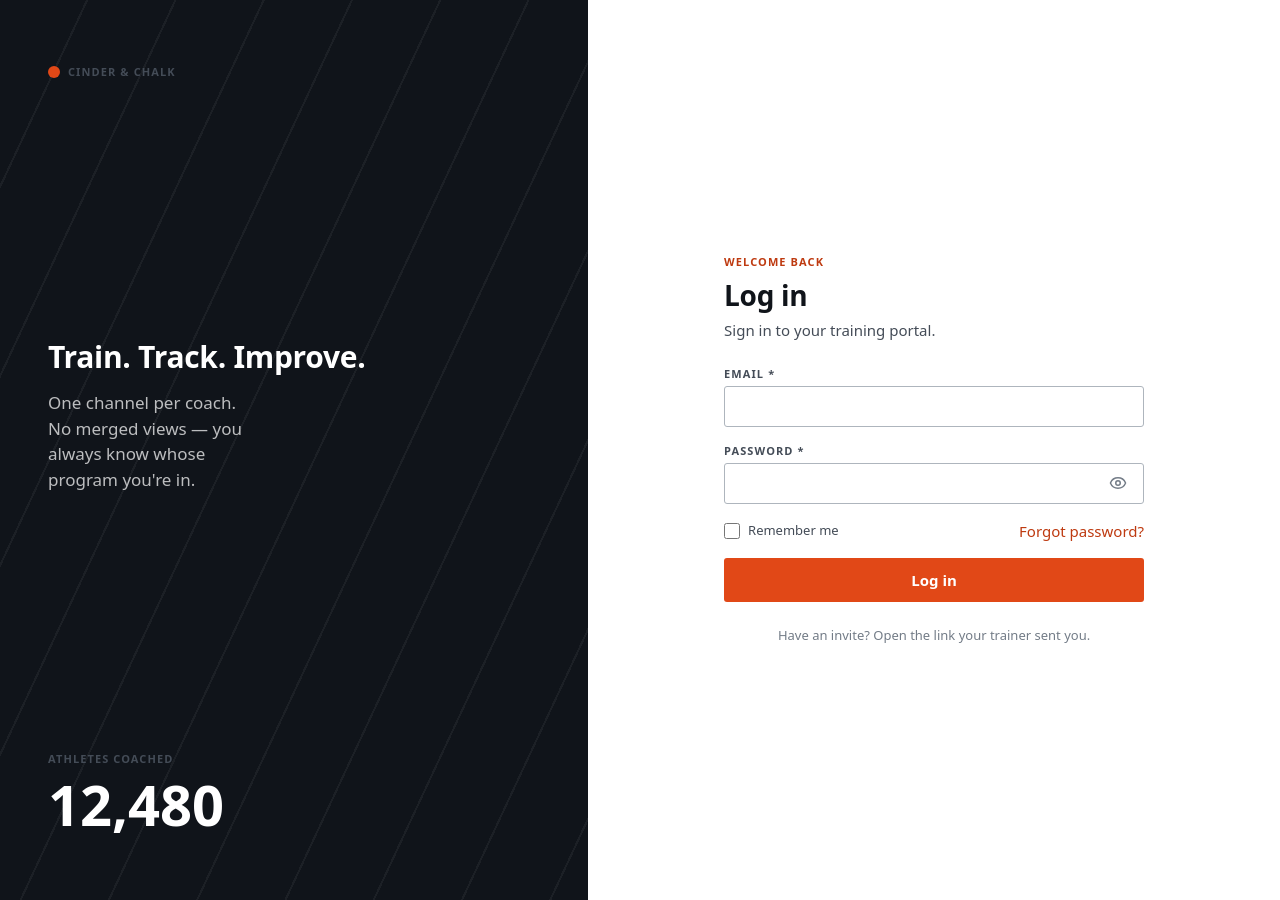
Test case: Login › shows a generic inline error for INVALID_CREDENTIALS
The image size is (1280, 900).
Type "dana@x.com" into the field labelled "Email *" at x=934, y=406, box [724,386,1144,427]
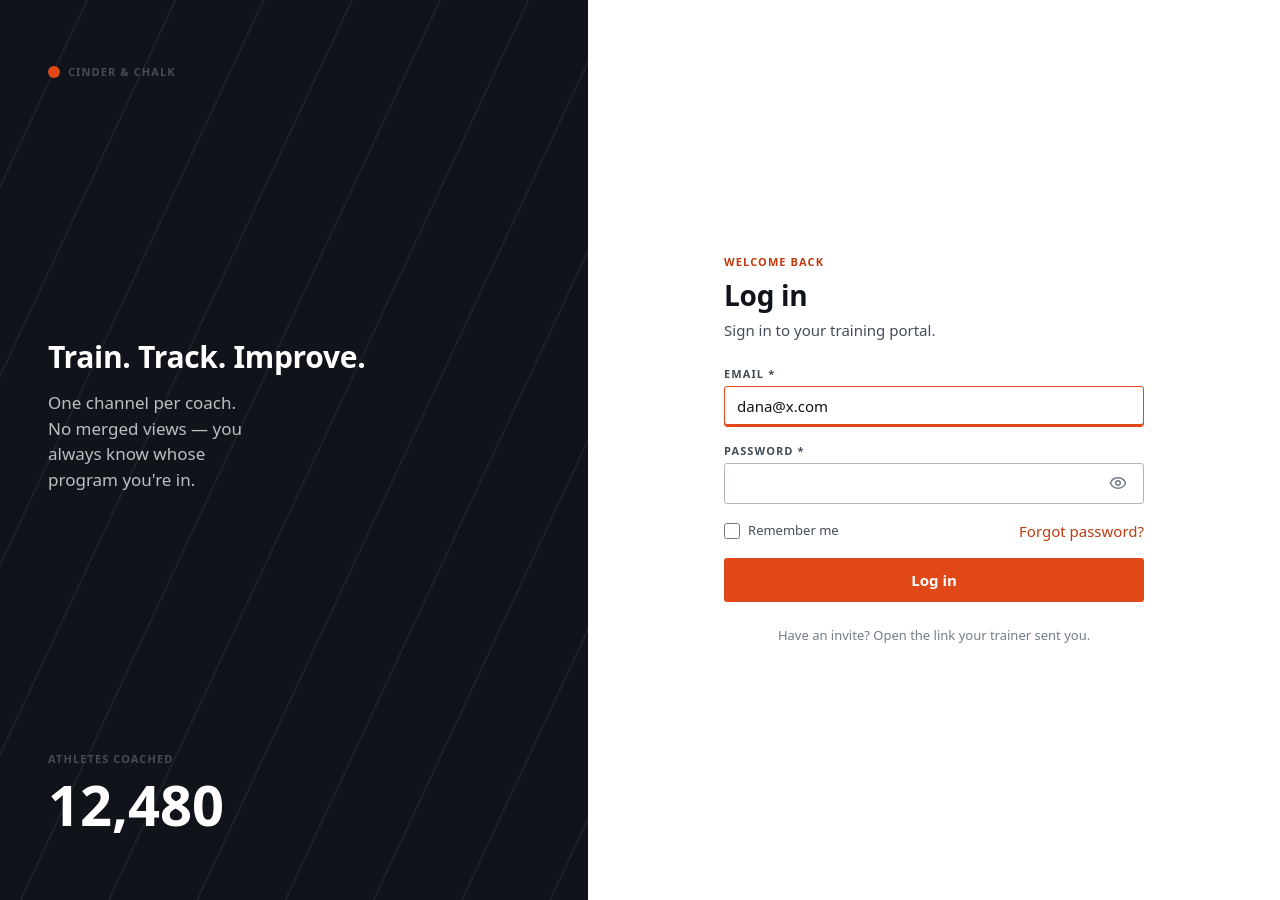
Type "secret123" into the password field labelled "Password *" at x=934, y=483, box [724,463,1144,504]
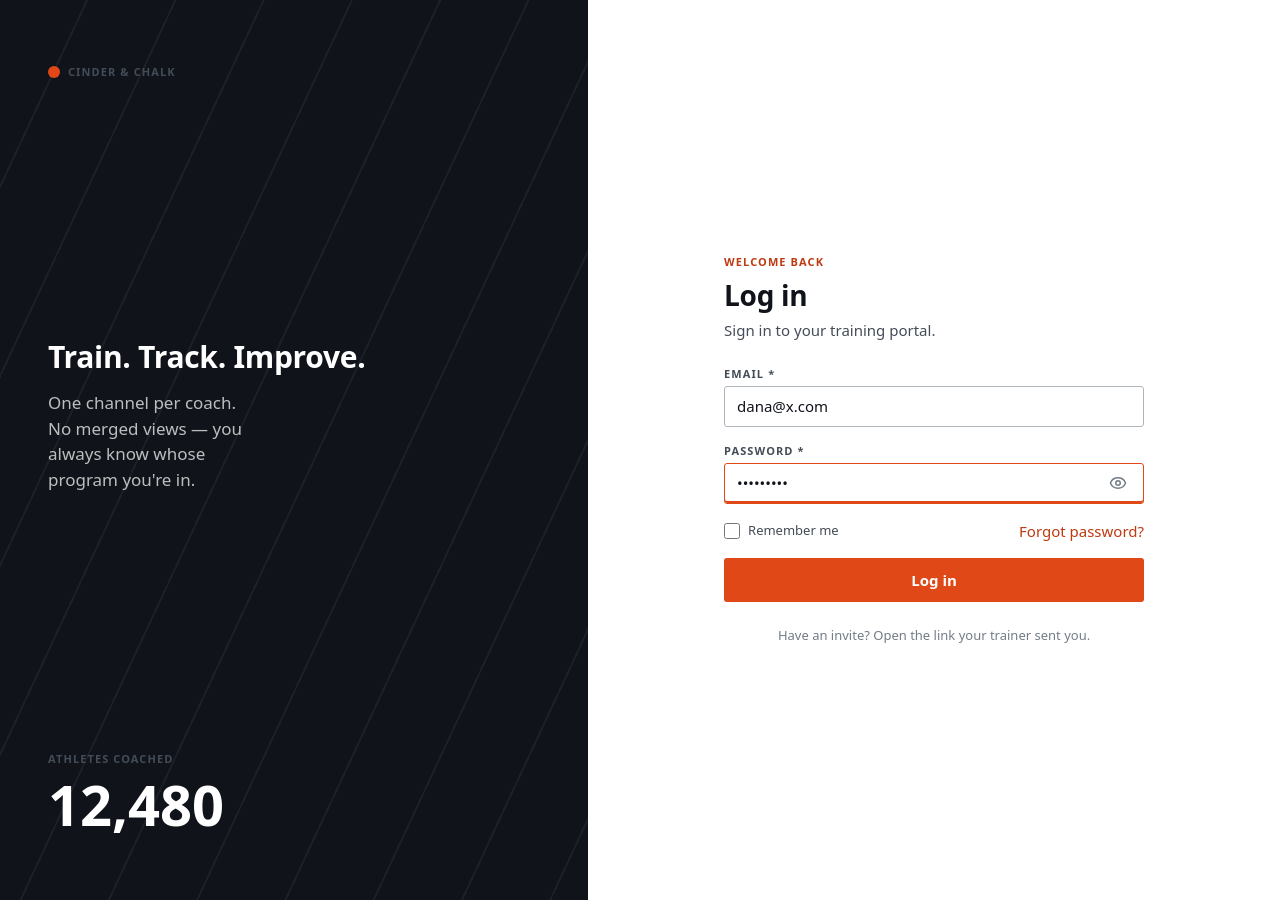
Click the button "Log in" at x=934, y=580, box [724,558,1144,602]
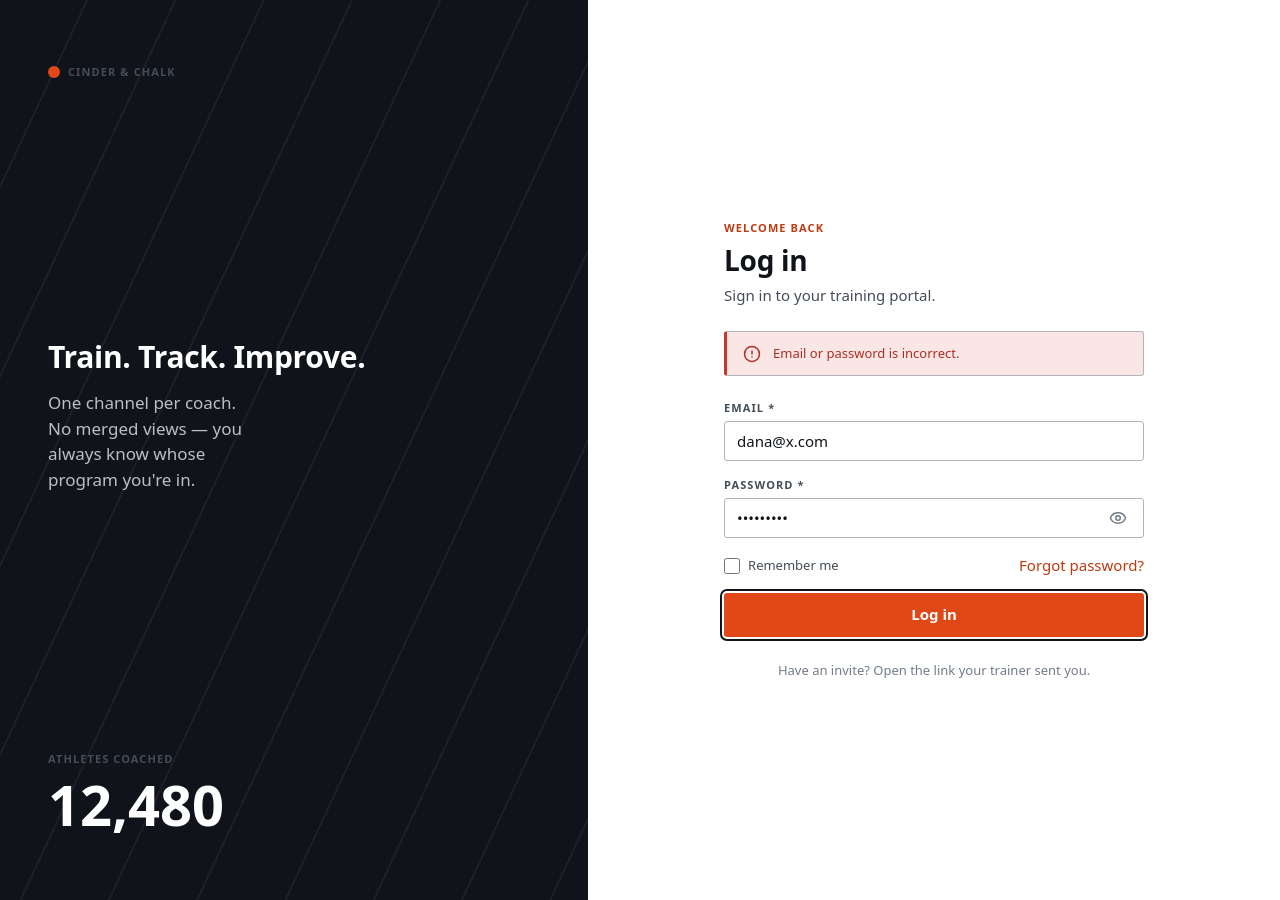
Expected: the text "Email or password is incorrect." is shown, [773,344,959,362]
